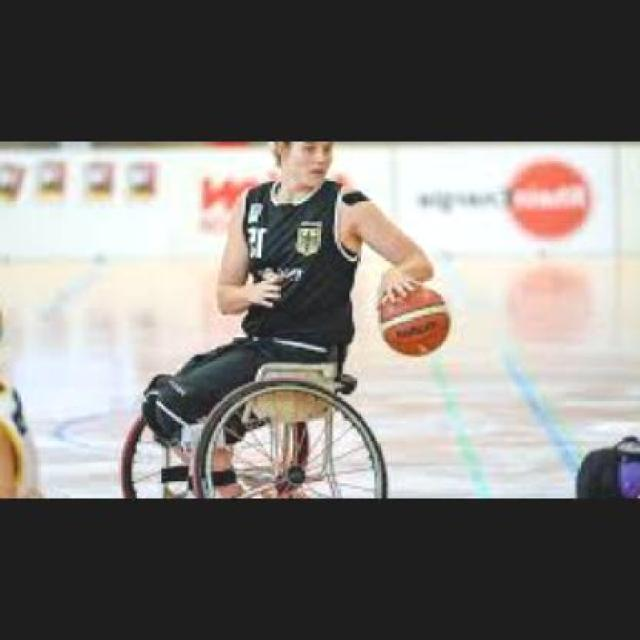wheelchairs: (121, 293, 411, 499)
